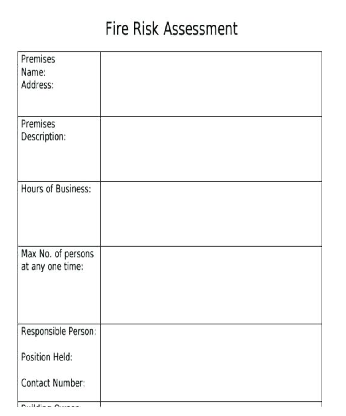textbox: (99, 319, 324, 404), (98, 244, 324, 327), (98, 111, 324, 184), (98, 48, 324, 120), (98, 178, 324, 249)
